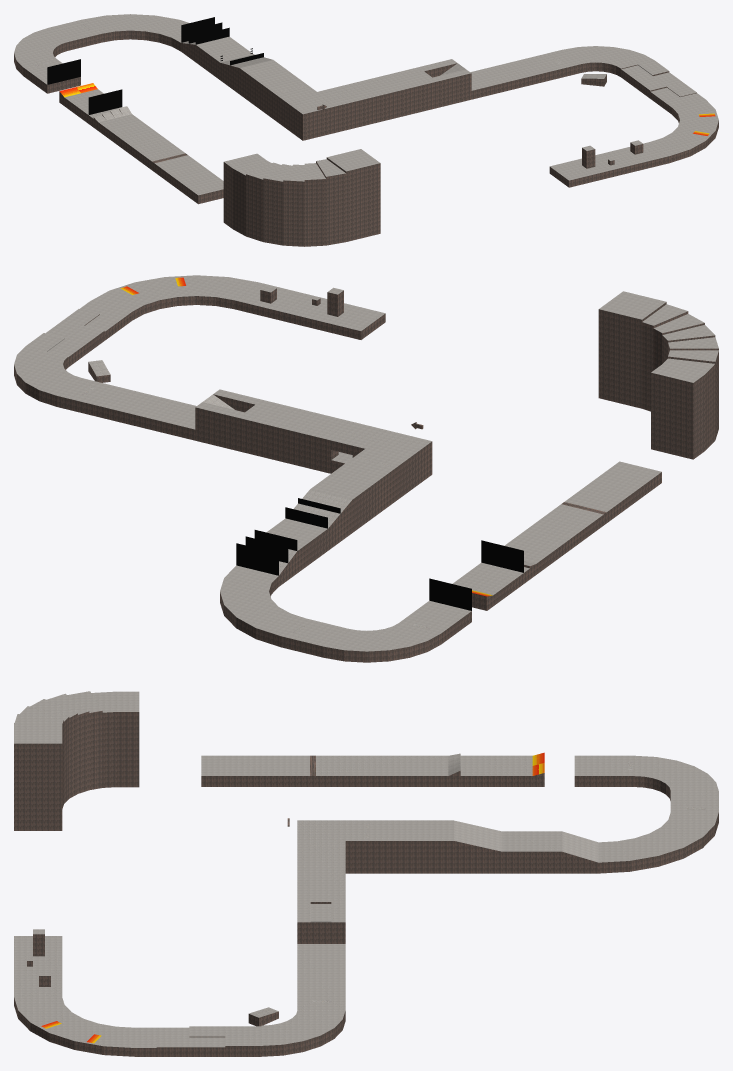
3 renders of one model, top to bottom at view 1: azimuth 30°, elevation 25°; view 2: azimuth 150°, elevation 25°; view 3: azimuth 270°, elevation 25°, orthographic. The views are drawn at different scales.
Parts seen in each view (by area): view 1: testcourse_SKP__road2, testcourse_SKP__road, testcourse_SKP__line, testcourse_SKP__road_num, testcourse_SKP__boost; view 2: testcourse_SKP__road, testcourse_SKP__road2, testcourse_SKP__line, testcourse_SKP__road_num; view 3: testcourse_SKP__road, testcourse_SKP__road2.
Boxes of the visible parts, left/top/right/bottom form: testcourse_SKP__road2: left=14, top=30, right=718, bottom=246; testcourse_SKP__road: left=14, top=14, right=718, bottom=195; testcourse_SKP__line: left=47, top=17, right=263, bottom=114; testcourse_SKP__road_num: left=34, top=20, right=561, bottom=161; testcourse_SKP__boost: left=59, top=83, right=715, bottom=135; testcourse_SKP__road: left=14, top=275, right=718, bottom=651; testcourse_SKP__road2: left=14, top=288, right=718, bottom=662; testcourse_SKP__line: left=236, top=498, right=523, bottom=610; testcourse_SKP__road_num: left=81, top=387, right=603, bottom=633; testcourse_SKP__road: left=14, top=691, right=718, bottom=1047; testcourse_SKP__road2: left=14, top=711, right=718, bottom=1056.
Size of the model in its own units: 57006 by 8000 by 58532.
Materials: 6 (6 with a texture image).
